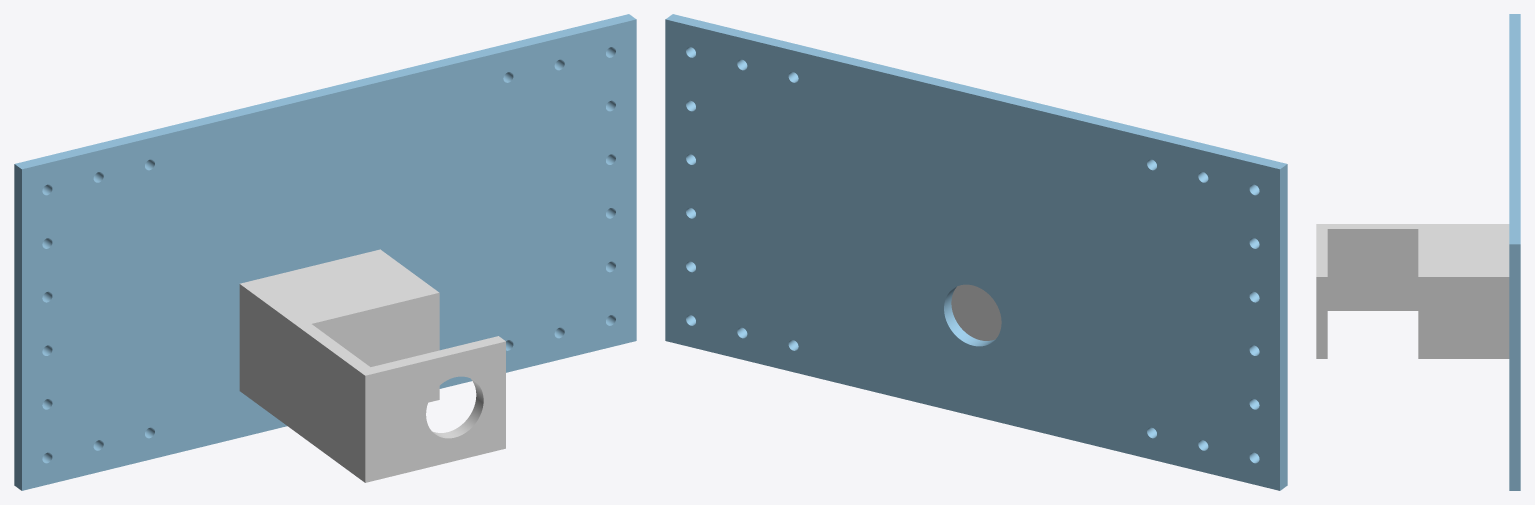
The picture shows the model from 3 angles, left to right: view 1: azimuth 30°, elevation 25°; view 2: azimuth 150°, elevation 25°; view 3: azimuth 270°, elevation 25°; orthographic projection. The views are drawn at different scales.
Parts seen in each view (by area): view 1: Part 2, Part 5; view 2: Part 2, Part 5; view 3: Part 5, Part 2.
Boxes of the visible parts, left/top/right/bottom form: Part 2: left=14, top=14, right=636, bottom=490; Part 5: left=239, top=249, right=505, bottom=482; Part 2: left=665, top=14, right=1287, bottom=490; Part 5: left=951, top=284, right=1001, bottom=340; Part 5: left=1316, top=224, right=1509, bottom=358; Part 2: left=1509, top=14, right=1520, bottom=490.
Bounding box in the file's own units: 0.3048 × 0.1524 × 0.1143.
